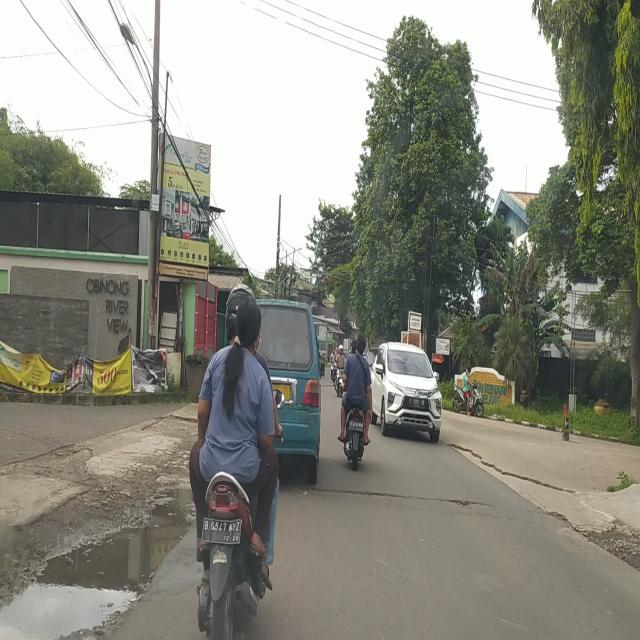Sewer Cover: (298, 484, 546, 516)
